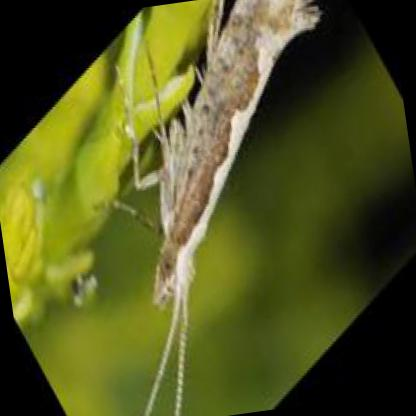plutella: (85, 0, 322, 416)
